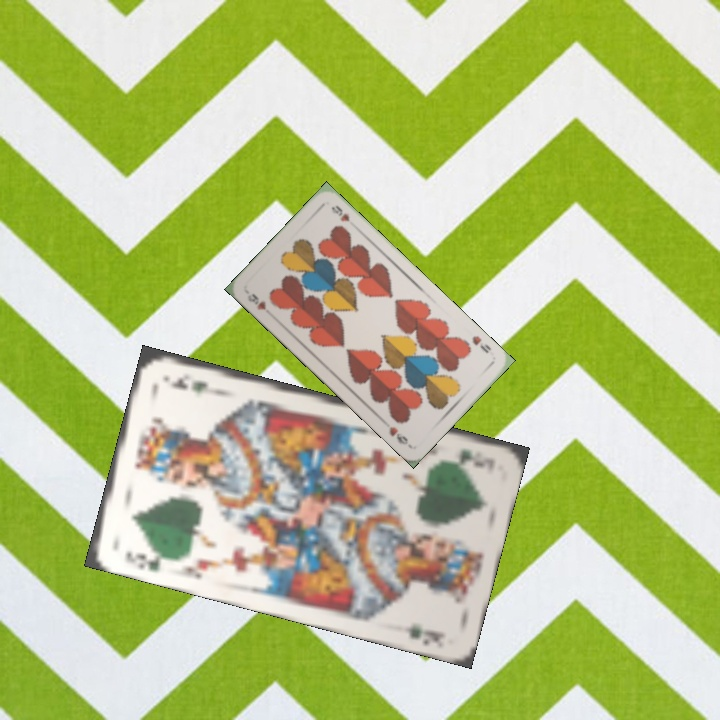GK: (122, 547, 173, 574), (454, 445, 489, 470)
H9: (468, 331, 494, 356), (243, 289, 269, 313)
